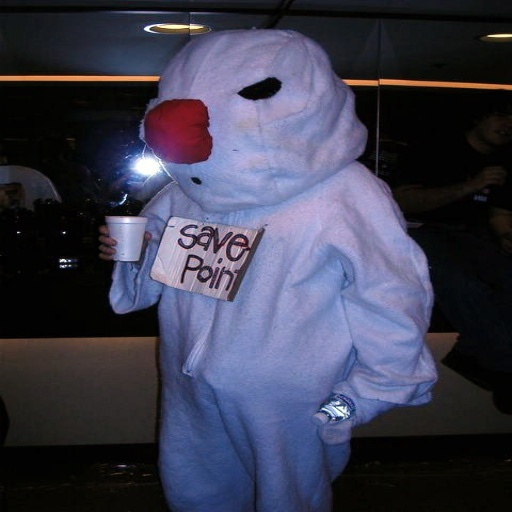hand: (96, 224, 150, 261)
